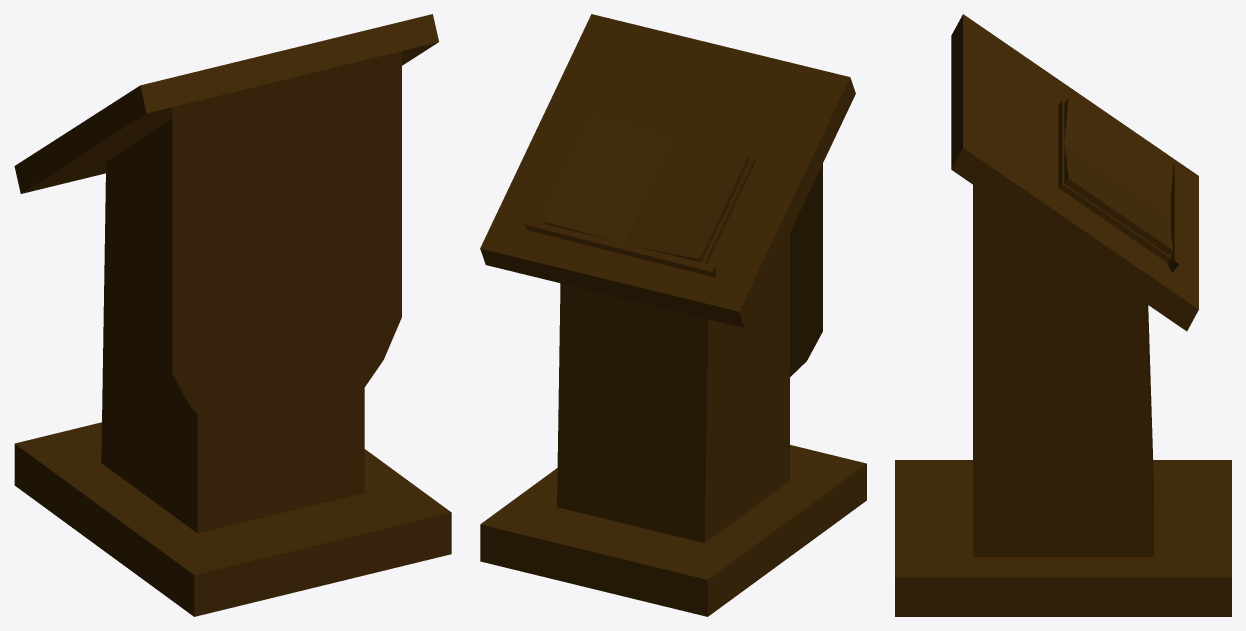
Rendered from Lecturer(OneMat).fbx.
3 renders of one model, left to right at view 1: azimuth 30°, elevation 25°; view 2: azimuth 150°, elevation 25°; view 3: azimuth 270°, elevation 25°, orthographic. The views are drawn at different scales.
Visible parts, largest first — view 1: Lecturer(OneMat); view 2: Lecturer(OneMat); view 3: Lecturer(OneMat).
Boxes of the visible parts, bbox=[...] form: Lecturer(OneMat): bbox=[14, 14, 451, 616]; Lecturer(OneMat): bbox=[480, 14, 866, 616]; Lecturer(OneMat): bbox=[895, 14, 1231, 616].
Bounding box in the file's own units: 1.52 × 2.53 × 1.62.
